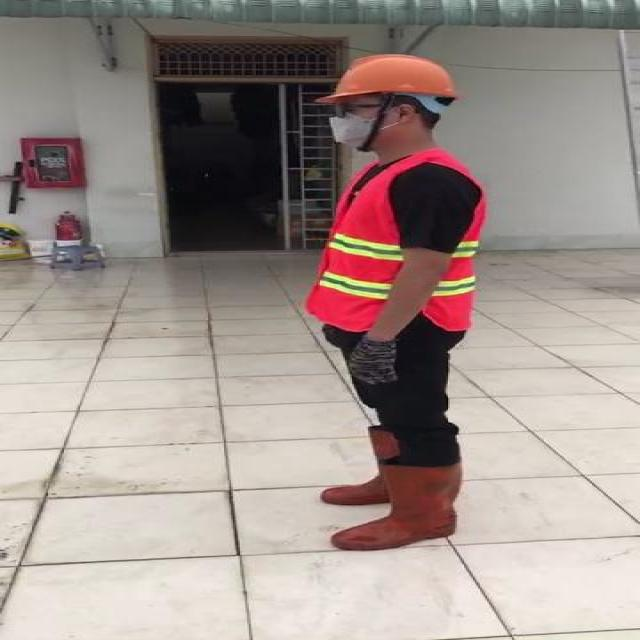boots: (331, 458, 469, 552), (312, 418, 431, 508)
face_mask: (322, 100, 386, 148)
hand_glove: (345, 335, 402, 387)
head_helmet: (312, 49, 456, 102)
person: (278, 51, 508, 556)
vest: (302, 155, 487, 332)
